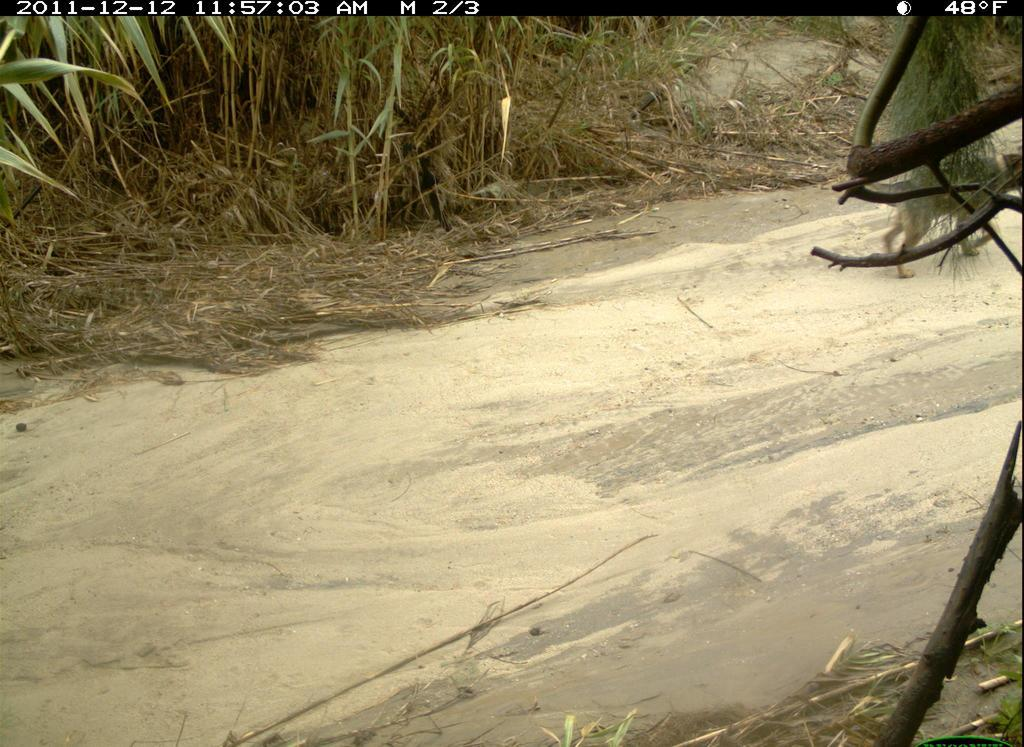dog: (848, 140, 1023, 281)
